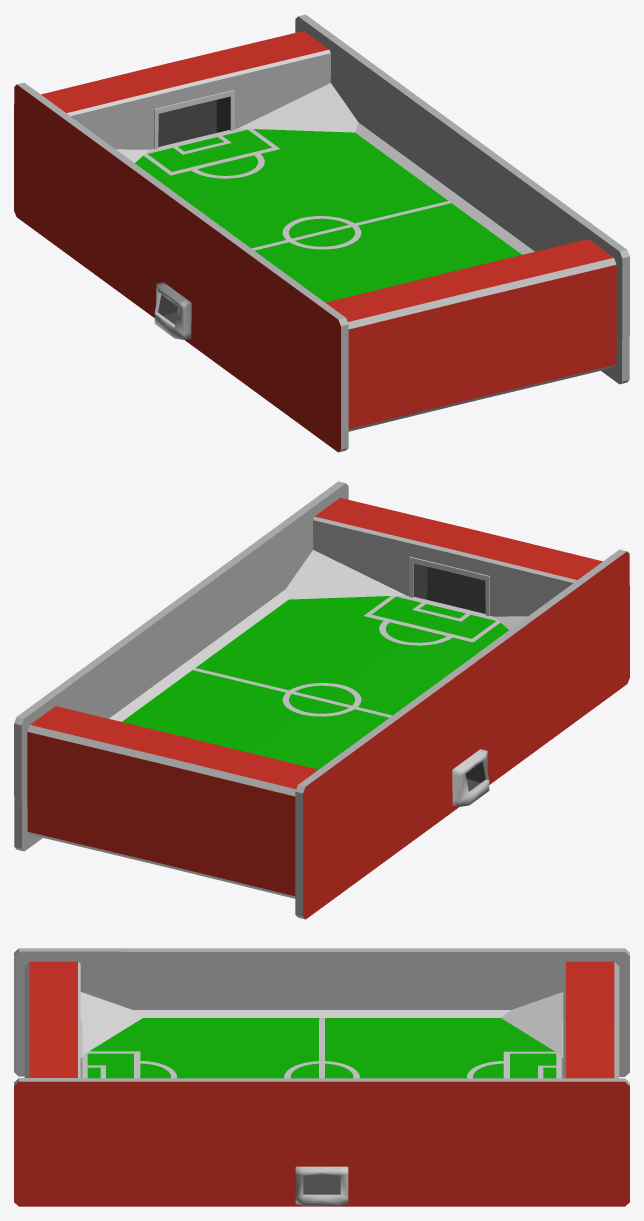
The model's file is biliardino - tavolo con sponde separate.fbx.
3 views of the same model, one above another, from view 1: azimuth 30°, elevation 25°; view 2: azimuth 150°, elevation 25°; view 3: azimuth 270°, elevation 25° (orthographic). The views are drawn at different scales.
Parts seen in each view (by area): view 1: Table, Banks; view 2: Table, Banks; view 3: Table, Banks.
Part boxes in pixels (bbox=[...]): Table: bbox=[14, 14, 629, 452]; Banks: bbox=[116, 83, 534, 254]; Table: bbox=[14, 481, 629, 919]; Banks: bbox=[109, 550, 527, 721]; Table: bbox=[14, 948, 629, 1206]; Banks: bbox=[80, 992, 563, 1055].
Bounding box in the file's own units: 773 × 313 × 1390.
